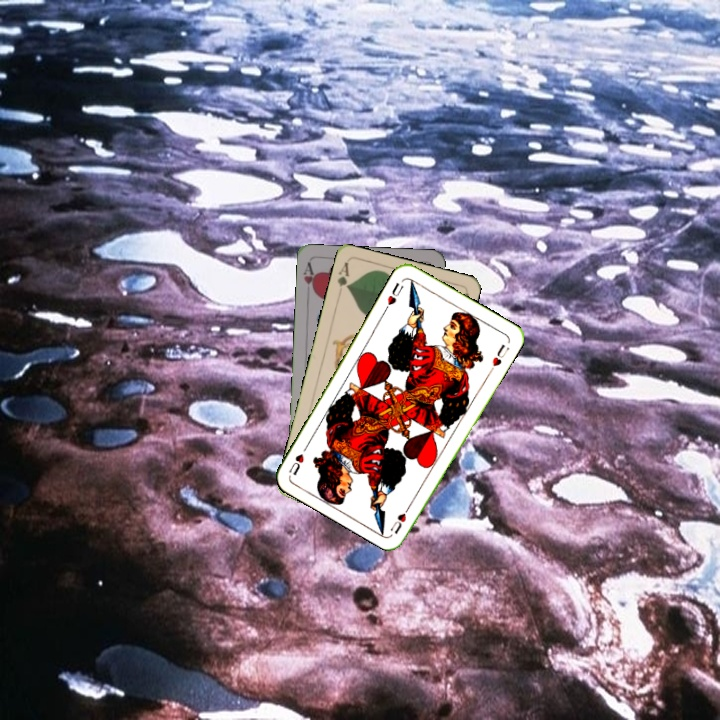GA: (333, 259, 352, 291)
HA: (299, 259, 319, 297)
HU: (386, 499, 414, 537), (383, 278, 406, 308)
